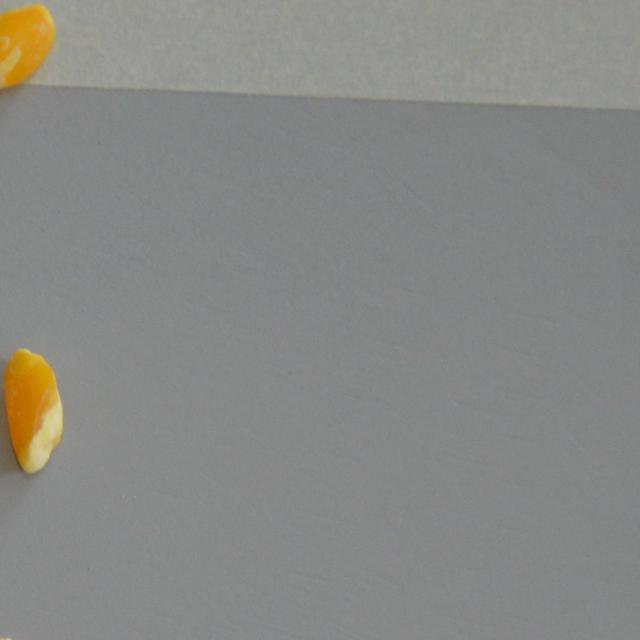agrietado: (0, 346, 64, 474)
pelicula: (0, 4, 58, 91)
